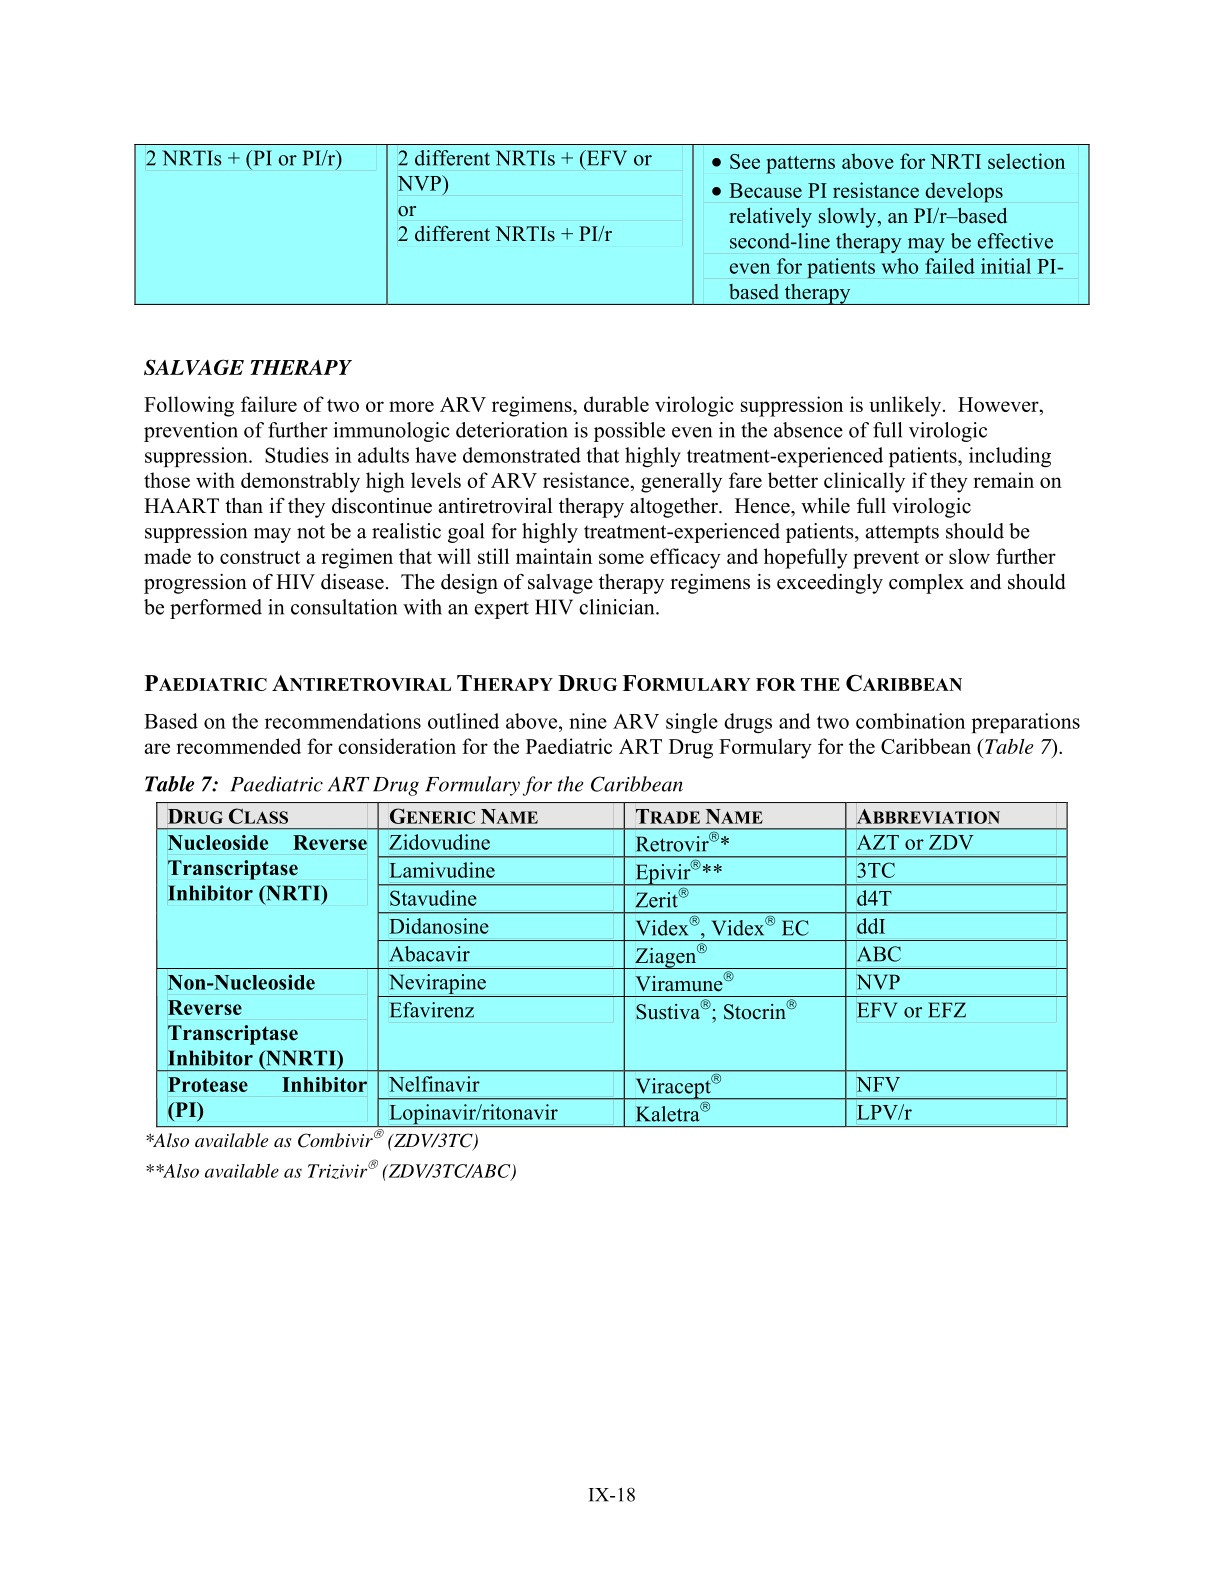full_lined: (132, 143, 1092, 306)
merged_cells: (154, 800, 1068, 1129)
